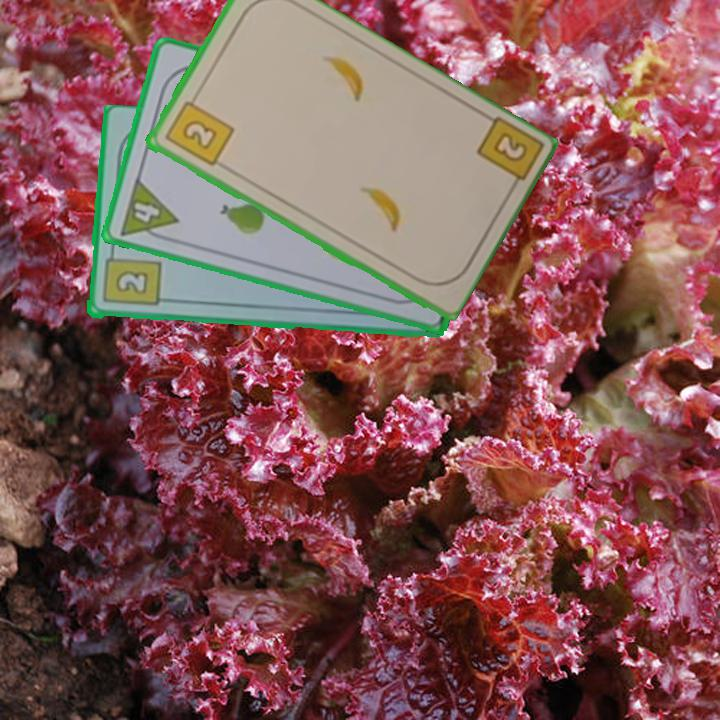2b: (161, 91, 236, 170), (472, 114, 543, 197), (99, 245, 162, 309)
4p: (116, 174, 181, 246)
